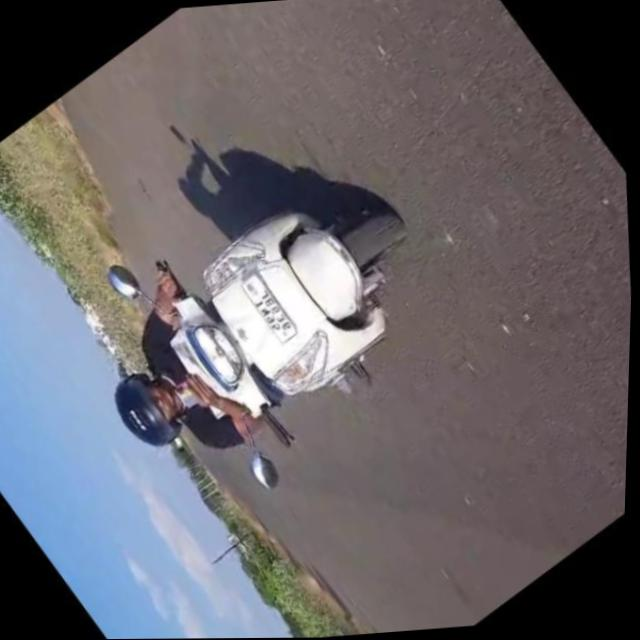USING_MOBILE: (101, 328, 263, 493)
